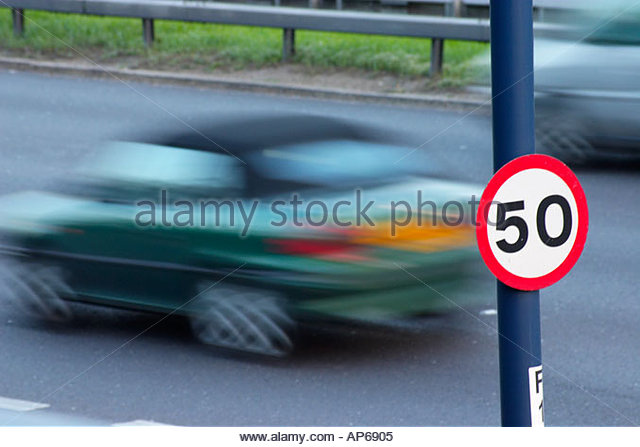Speed_limit_50km: (476, 149, 592, 292)
